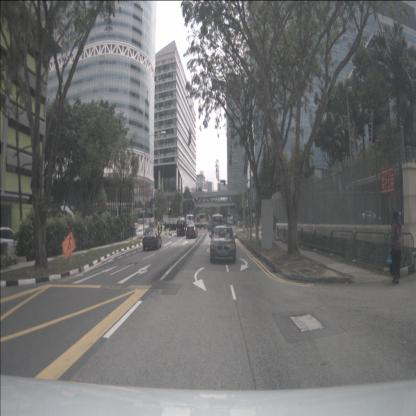human-pedestrian-adult: (388, 207, 401, 284), (273, 215, 278, 242), (120, 221, 124, 242), (130, 220, 133, 240), (157, 219, 160, 234), (164, 221, 167, 233), (172, 220, 175, 232), (160, 219, 162, 234), (240, 220, 242, 229), (238, 220, 240, 229)
vehicle-car: (209, 226, 238, 264), (0, 226, 24, 257), (142, 226, 161, 251), (360, 209, 383, 225), (186, 225, 198, 239), (176, 220, 186, 236), (206, 221, 216, 230)
vehicle-truck: (163, 214, 195, 231), (211, 214, 224, 237), (194, 212, 207, 228), (227, 215, 233, 225)
